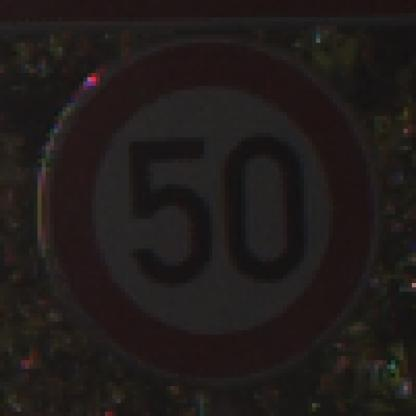Speed Limit 50: (44, 46, 372, 378)
